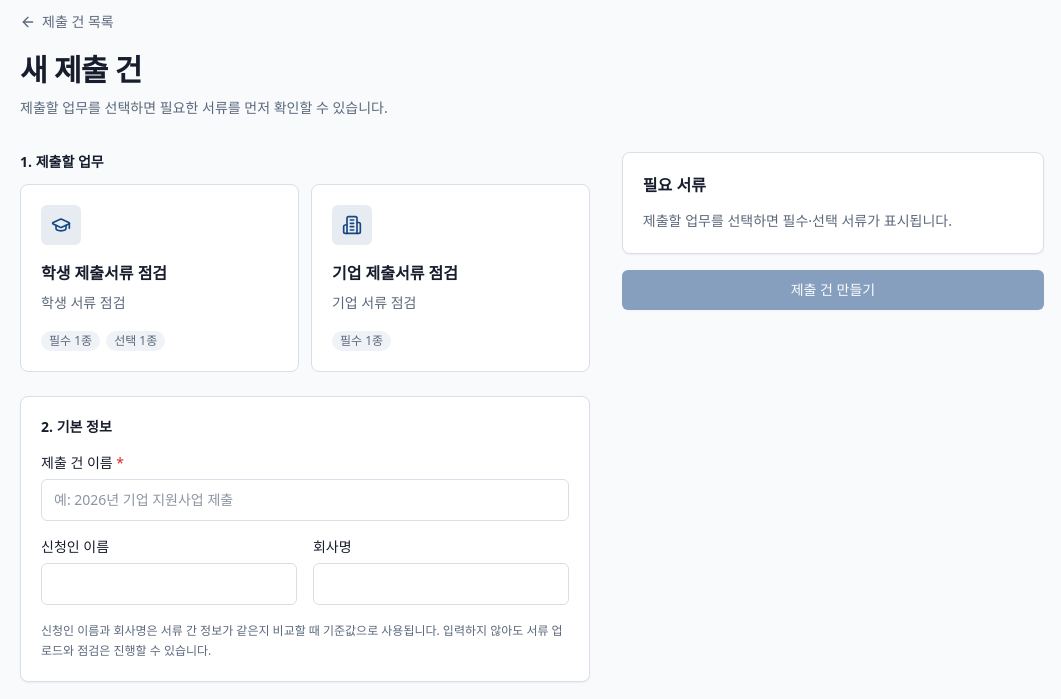
Test case: NewProjectPage › renders workflows from the backend and distinguishes required from optional documents
Click the radio button labelled "학생 제출서류 점검 학생 서류 점검 필수 1종 선택 1종" at (159, 278), box [20,184,299,372]
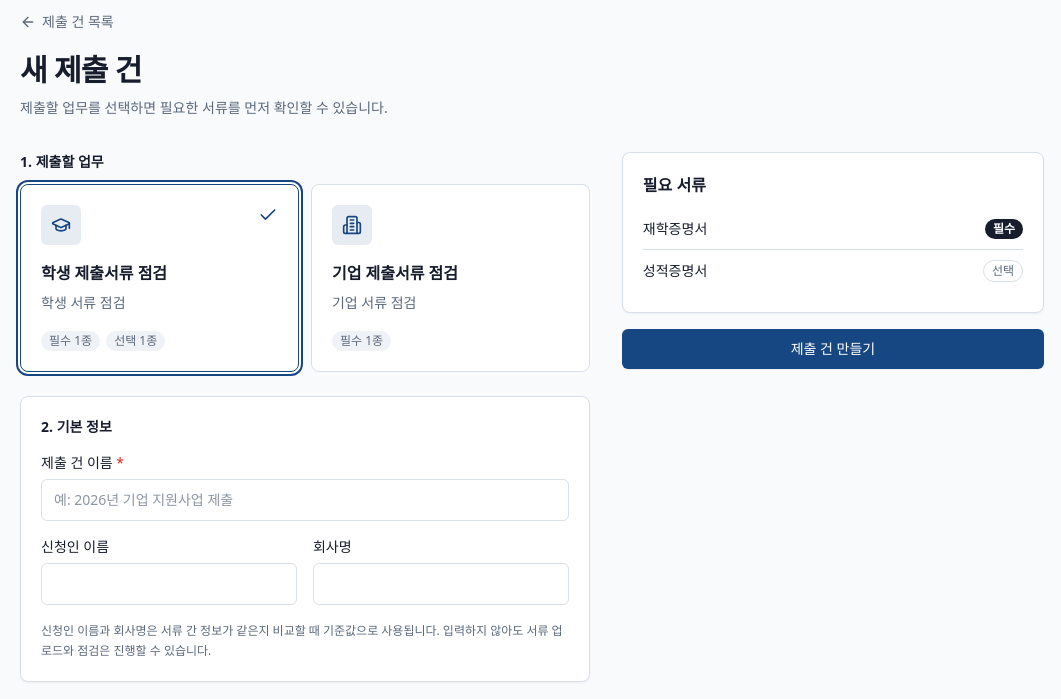
Expected: the text "필수" is shown, [985,219,1023,239]
Now the text "재학증명서" is shown, box [643,219,707,239]
Now the text "성적증명서" is shown, box [643,261,707,281]
